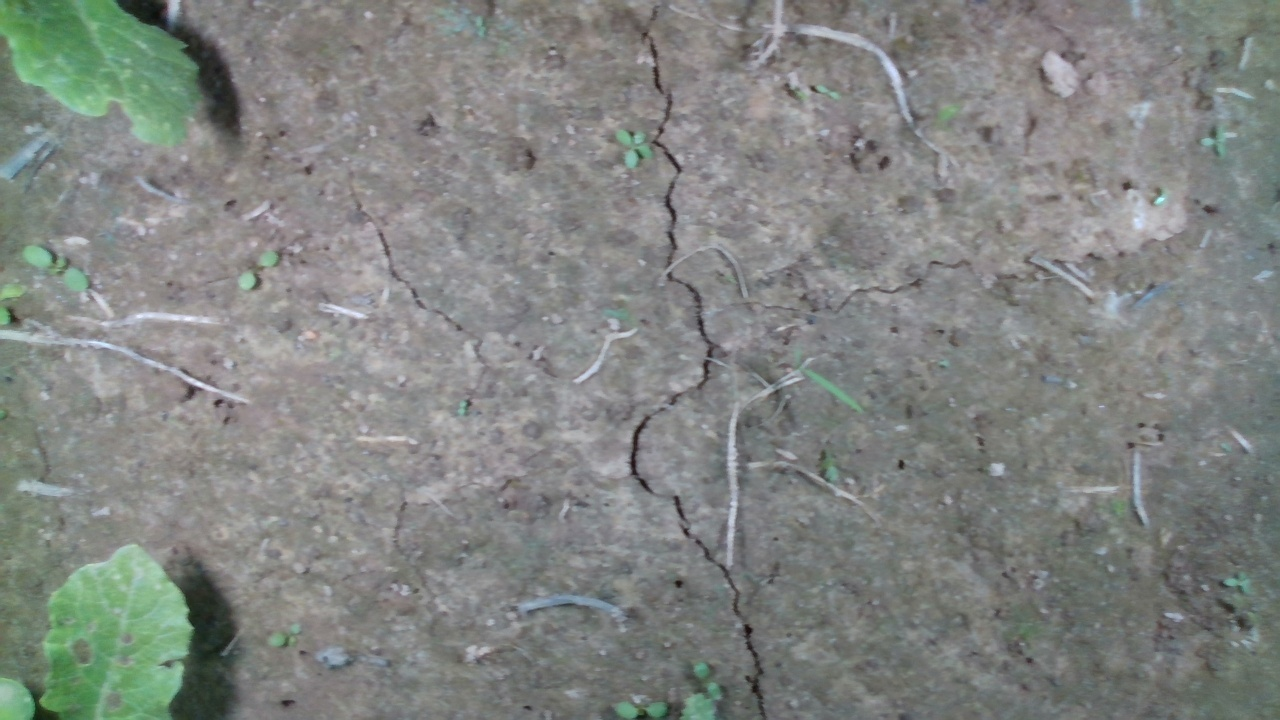weed: (18, 243, 89, 293), (236, 248, 281, 291)
